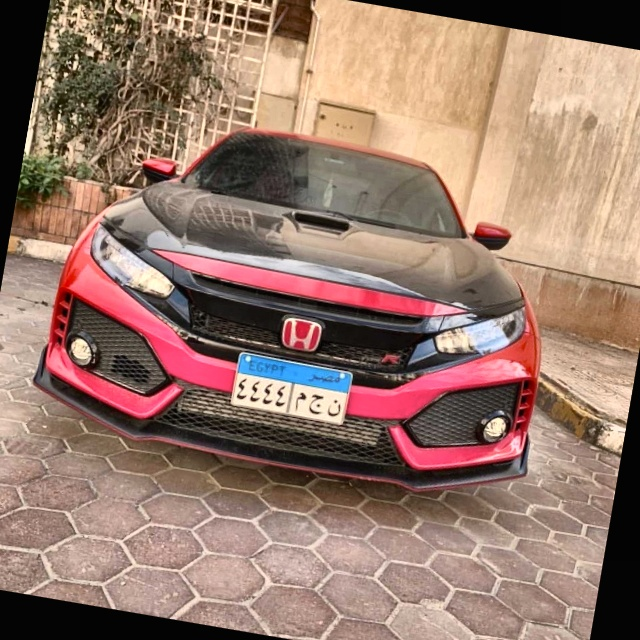License Plate: (228, 349, 356, 428)
